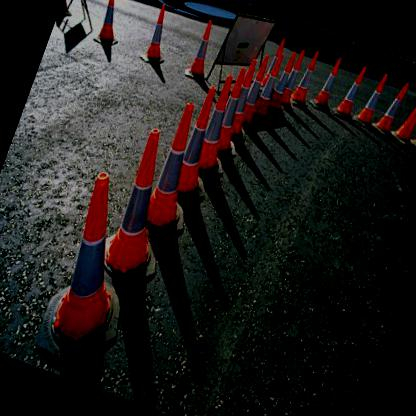cone: (32, 166, 167, 372), (99, 126, 187, 280), (142, 100, 213, 228), (170, 81, 227, 194), (184, 21, 222, 80), (374, 75, 412, 134), (356, 66, 392, 128), (290, 43, 326, 105), (92, 0, 136, 50), (144, 2, 180, 62), (337, 58, 372, 117), (278, 44, 310, 106), (390, 78, 415, 148), (315, 50, 346, 106)
